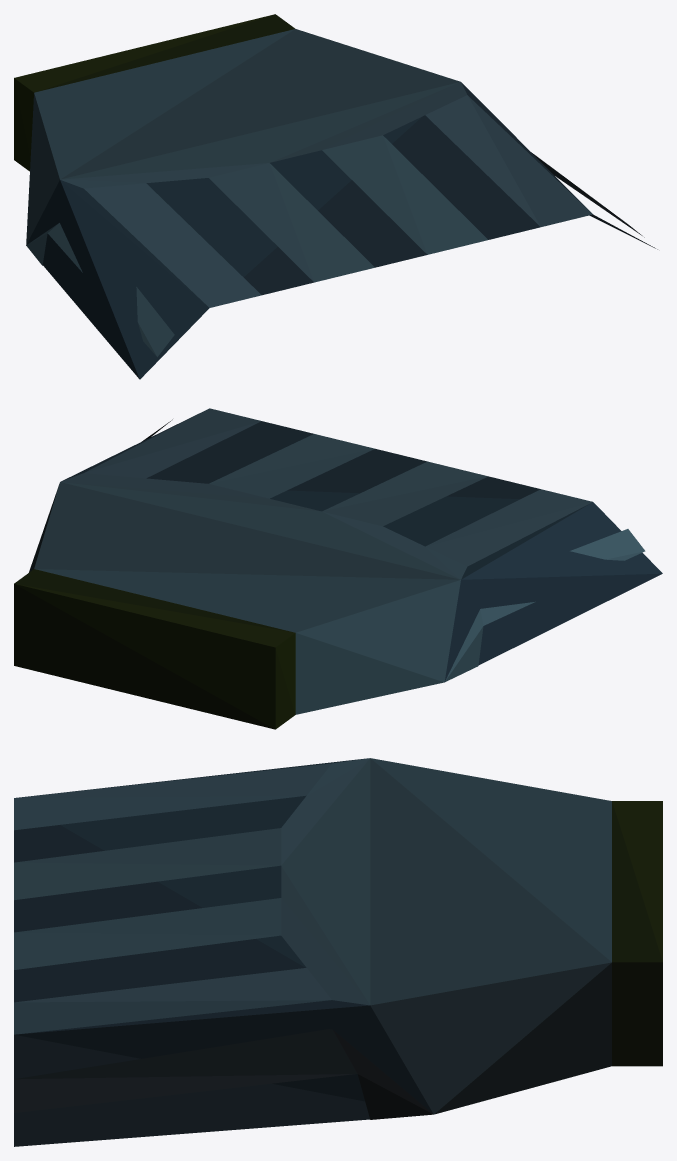
Rendered from runite-plateskirt.obj.
The picture shows the model from 3 angles, top to bottom: view 1: azimuth 30°, elevation 25°; view 2: azimuth 150°, elevation 25°; view 3: azimuth 270°, elevation 25°; orthographic projection. The views are drawn at different scales.
Visible parts, largest first — view 1: Item Rune plateskirt 2026-09-24_18-19-26; view 2: Item Rune plateskirt 2026-09-24_18-19-26; view 3: Item Rune plateskirt 2026-09-24_18-19-26.
Boxes of the visible parts, x1,y1,x2,y2 form: Item Rune plateskirt 2026-09-24_18-19-26: (14,14,657,379); Item Rune plateskirt 2026-09-24_18-19-26: (14,408,662,729); Item Rune plateskirt 2026-09-24_18-19-26: (14,758,662,1146).
Size of the model in its own units: 60 by 9 by 51.
